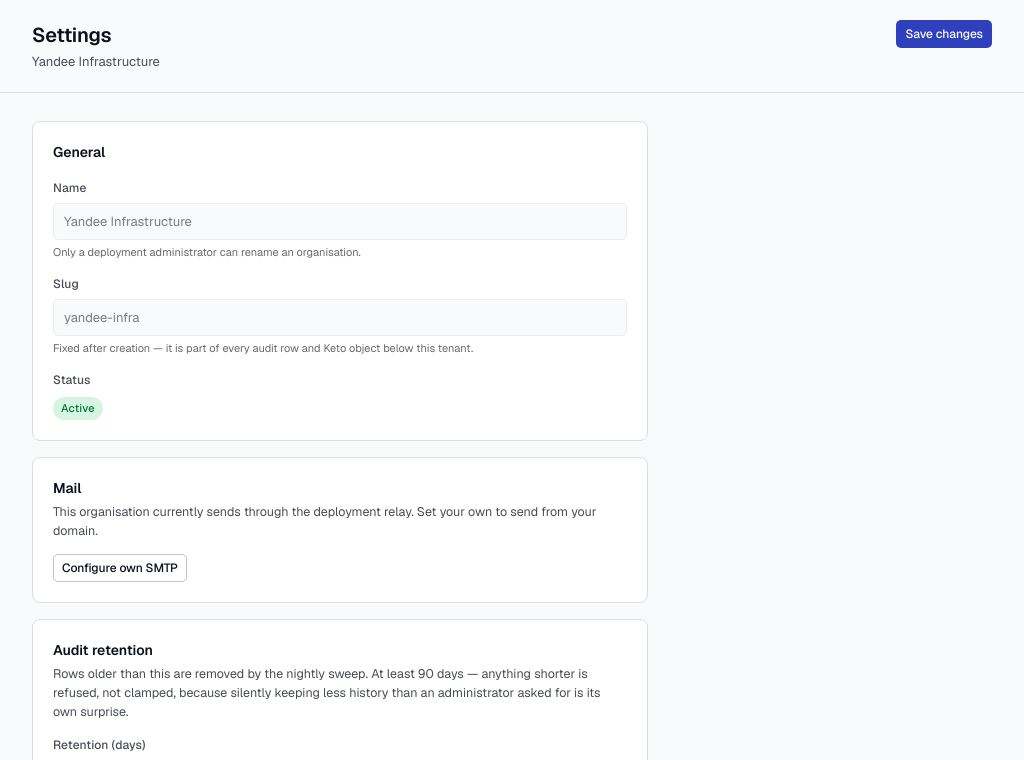
Test: audit retention › says nothing was changed when the write is refused for a reason it does not know
Click the button "Save changes" at (944, 34), box [896,20,992,48]
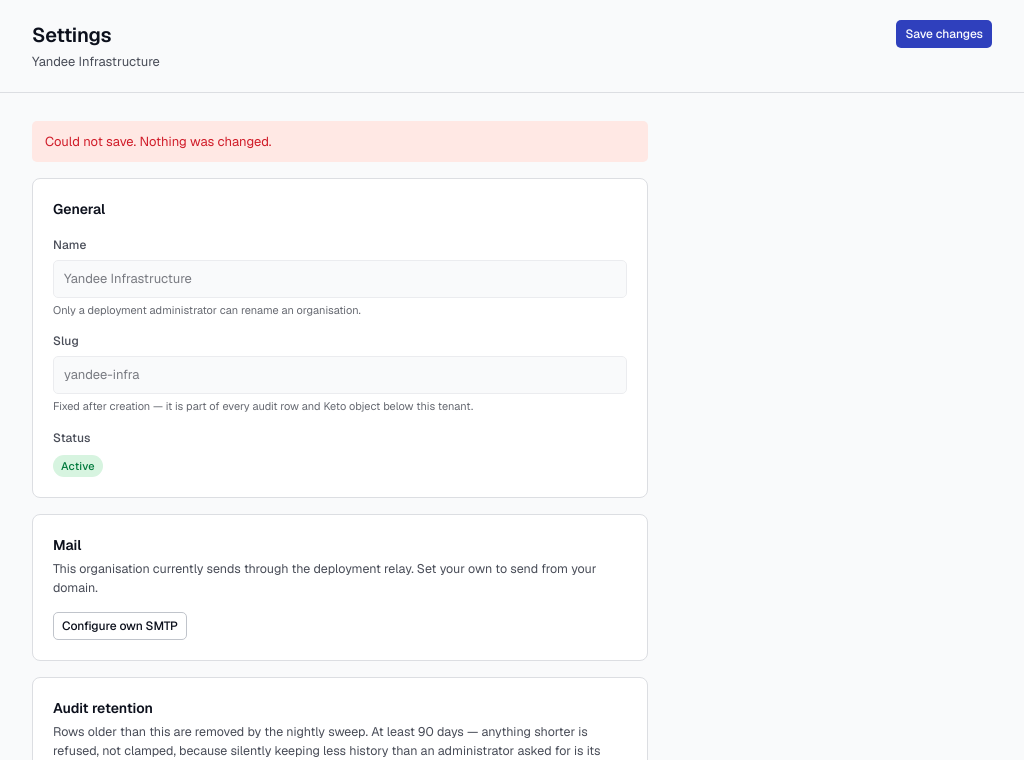
Now the text "Could not save. Nothing was changed." is shown, box [32,120,648,162]
